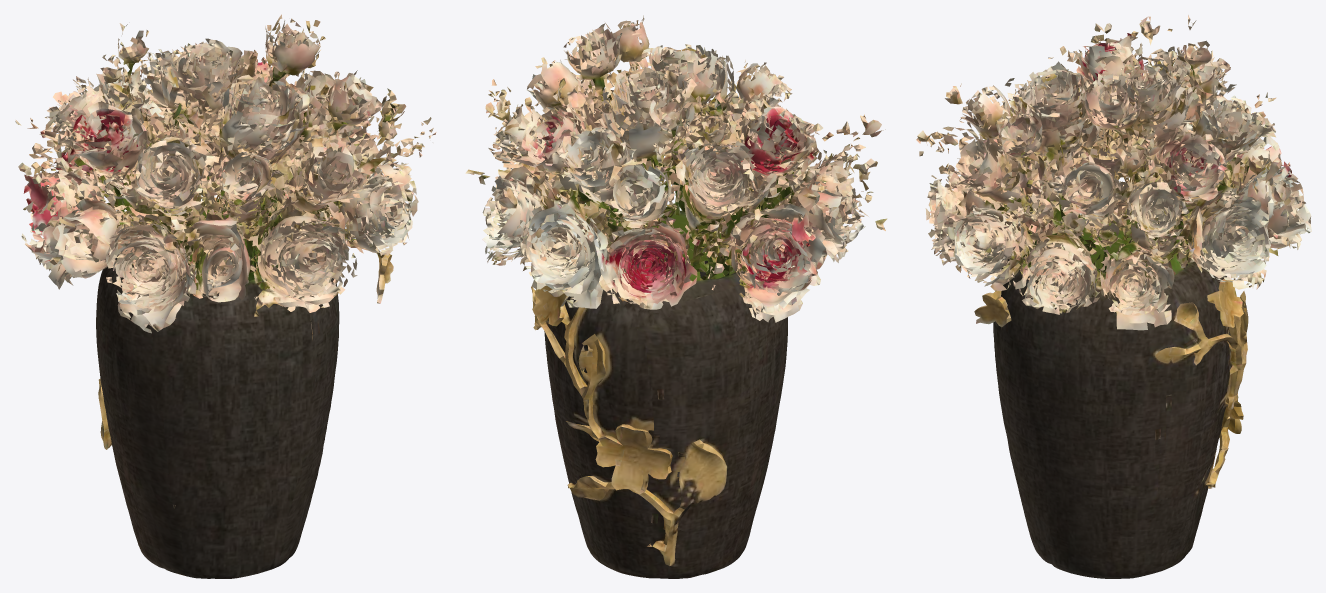
File: Meshy_AI_Golden_Rose_Elegance_0920123651_texture.glb
3 renders of one model, left to right at view 1: azimuth 30°, elevation 25°; view 2: azimuth 150°, elevation 25°; view 3: azimuth 270°, elevation 25°, orthographic.
Visible parts, largest first — view 1: Mesh_0; view 2: Mesh_0; view 3: Mesh_0.
Part boxes in pixels (x1,y1,x2,y2): Mesh_0: [15, 14, 436, 578]; Mesh_0: [465, 15, 887, 578]; Mesh_0: [916, 15, 1311, 578].
Size of the model in its own units: 1.53 by 1.86 by 1.32.
Materials: 1 (1 with a texture image).
